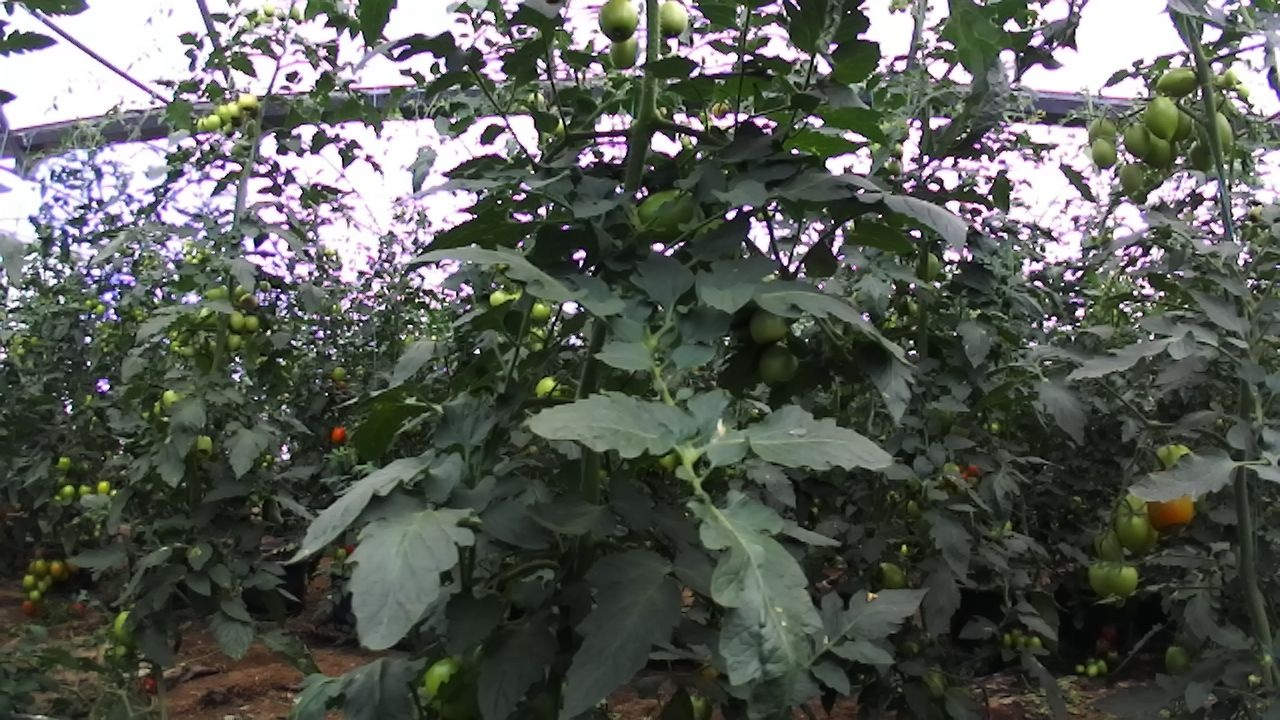tomato: (625, 174, 712, 249), (413, 649, 468, 711), (1145, 482, 1199, 533), (1138, 91, 1186, 148), (589, 0, 645, 48), (753, 342, 806, 392), (1194, 109, 1244, 157), (598, 26, 646, 76), (1152, 59, 1204, 105), (744, 304, 795, 349), (1112, 505, 1154, 554), (651, 0, 697, 44), (1119, 118, 1160, 165), (1157, 641, 1201, 684), (872, 555, 916, 597), (909, 245, 951, 288), (1086, 522, 1127, 565), (1082, 134, 1123, 172), (1104, 559, 1143, 598), (1085, 557, 1121, 598), (530, 370, 570, 406), (1111, 159, 1148, 196), (1086, 110, 1117, 152), (321, 419, 357, 452), (524, 295, 558, 329), (50, 449, 77, 478), (485, 283, 512, 310), (193, 430, 216, 461), (157, 385, 184, 410), (226, 308, 249, 337), (235, 89, 262, 112), (222, 329, 246, 354), (92, 477, 116, 499), (241, 312, 262, 334), (58, 480, 79, 502), (32, 556, 53, 578), (19, 571, 39, 593), (48, 558, 67, 581), (204, 112, 223, 132), (26, 586, 44, 605), (1084, 661, 1100, 679), (1095, 657, 1109, 675)
